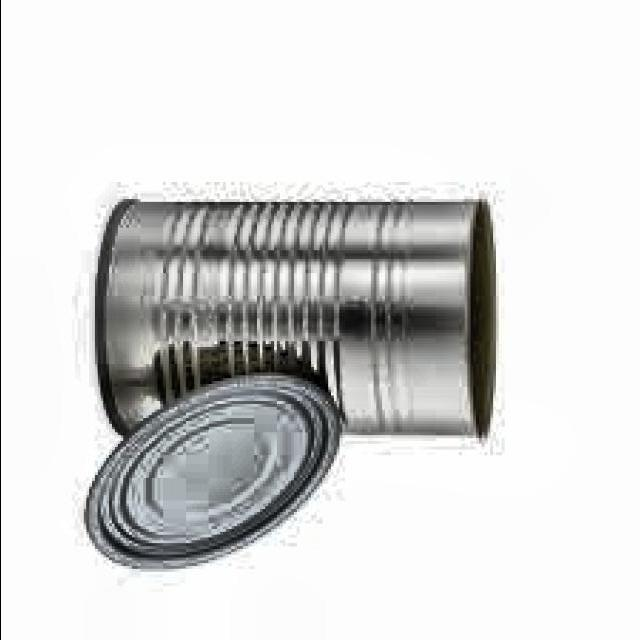litter: (96, 190, 506, 449), (75, 372, 348, 580)
